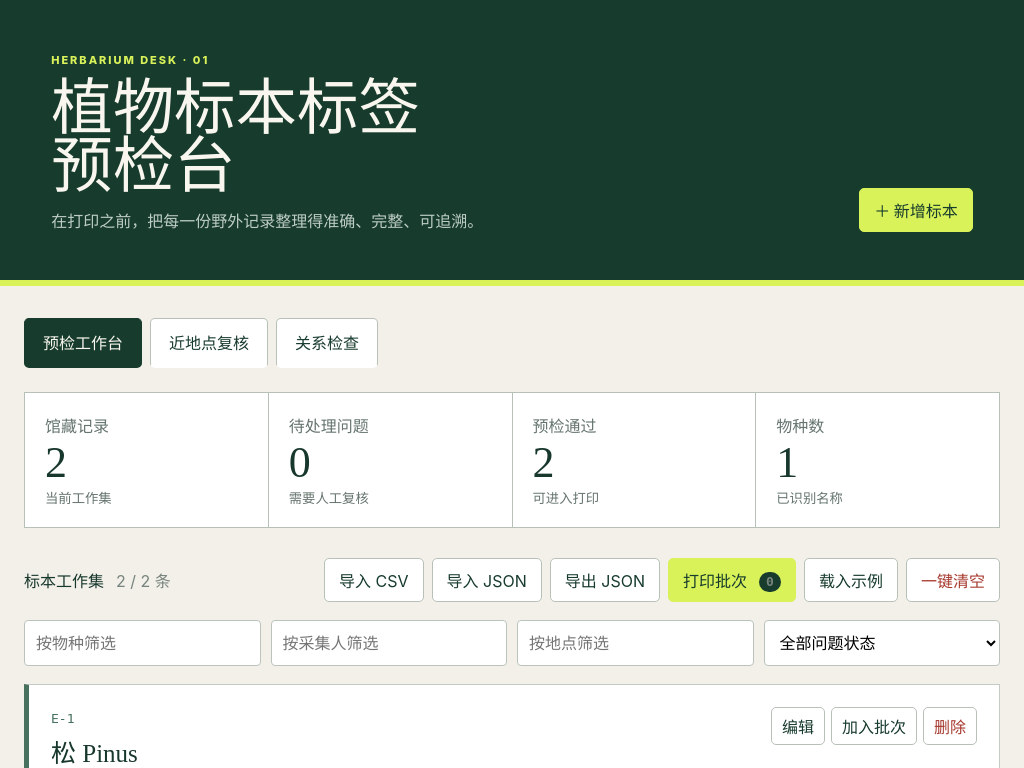
Test case: 近地点复核工作区 › 经线两侧：179.99… 与 -179.99… 按跨经线最短距离在 100 米内配对
Click the button "近地点复核": (209, 342) [150,318,268,368]
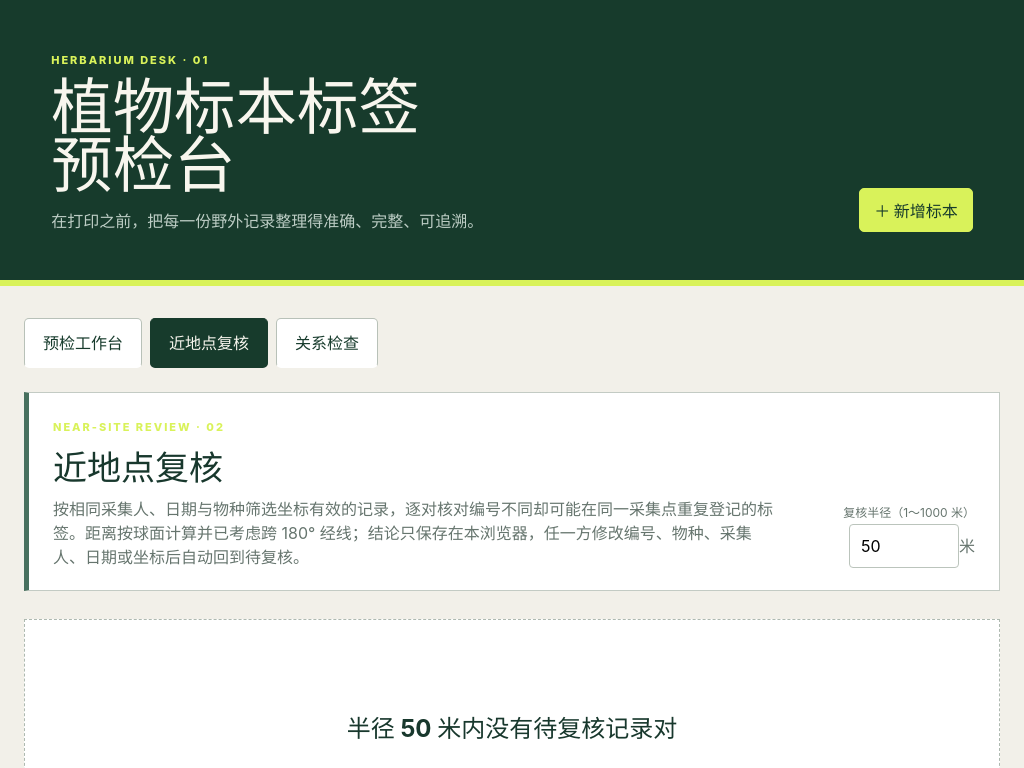
Replace the text in the field named "复核半径，单位米" with "100": (904, 546) [849,524,959,568]
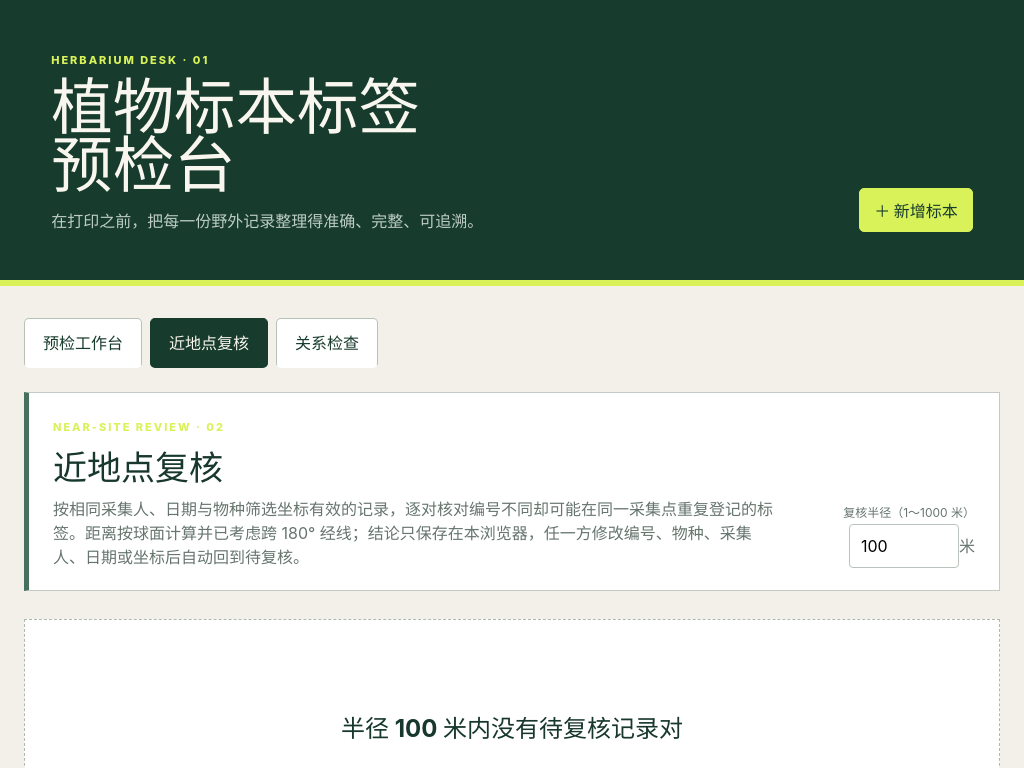
Replace the text in the field named "复核半径，单位米" with "150": (904, 546) [849,524,959,568]
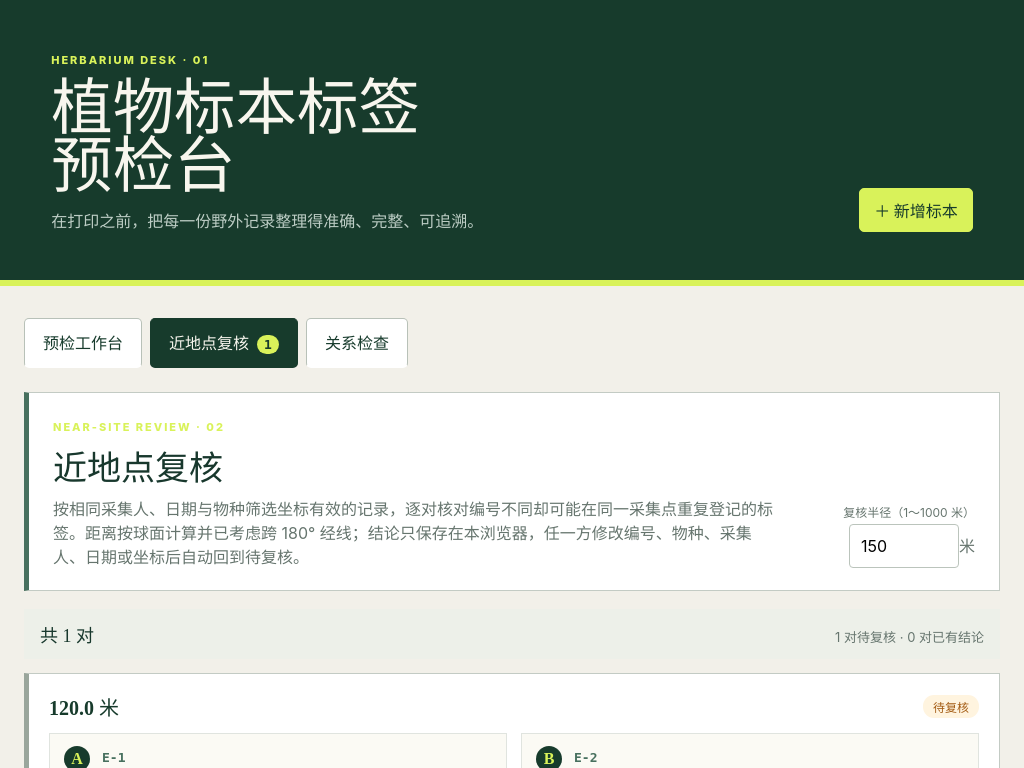
Result: the text with class "near-dist" reads "120.0 米" at [49,697,119,719]
